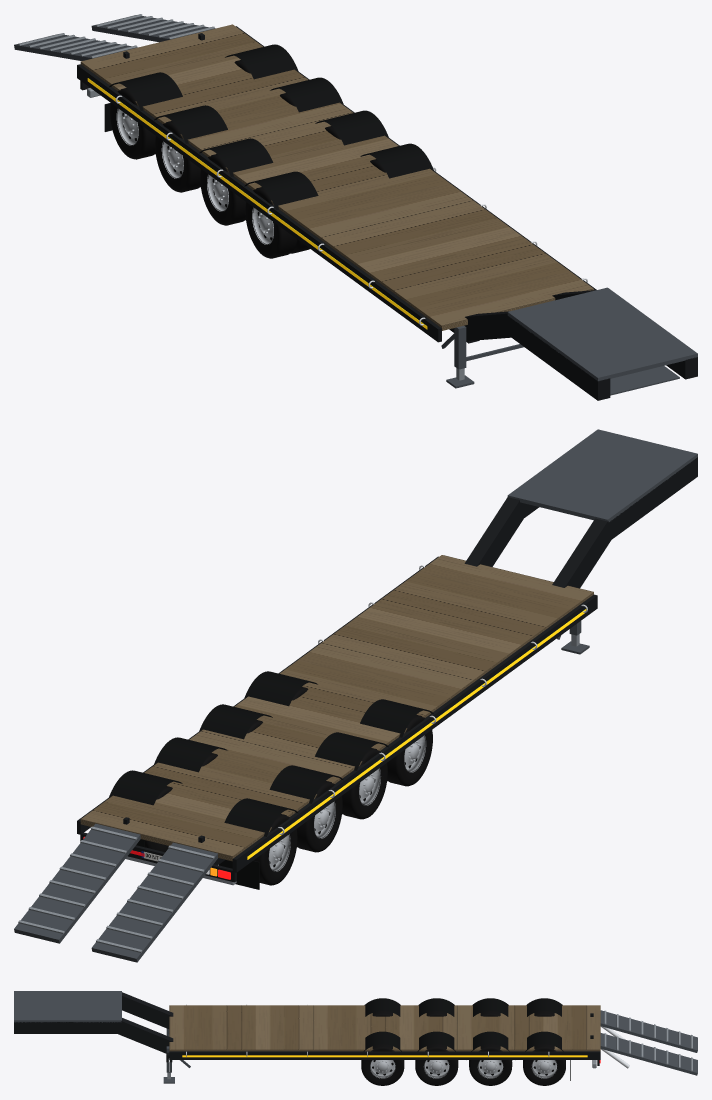
Rendered from ornek.glb.
3 views of the same model, one above another, from view 1: azimuth 30°, elevation 25°; view 2: azimuth 150°, elevation 25°; view 3: azimuth 270°, elevation 25° (orthographic). The views are drawn at different scales.
Size of the model in its own units: 2.7 by 1.5 by 15.86.
14 materials, 2 textured.
